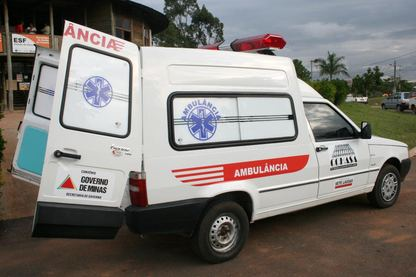ambulance: (7, 20, 411, 264)
